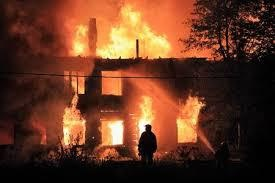fire: (50, 19, 186, 147), (65, 3, 177, 59), (104, 94, 155, 143)
